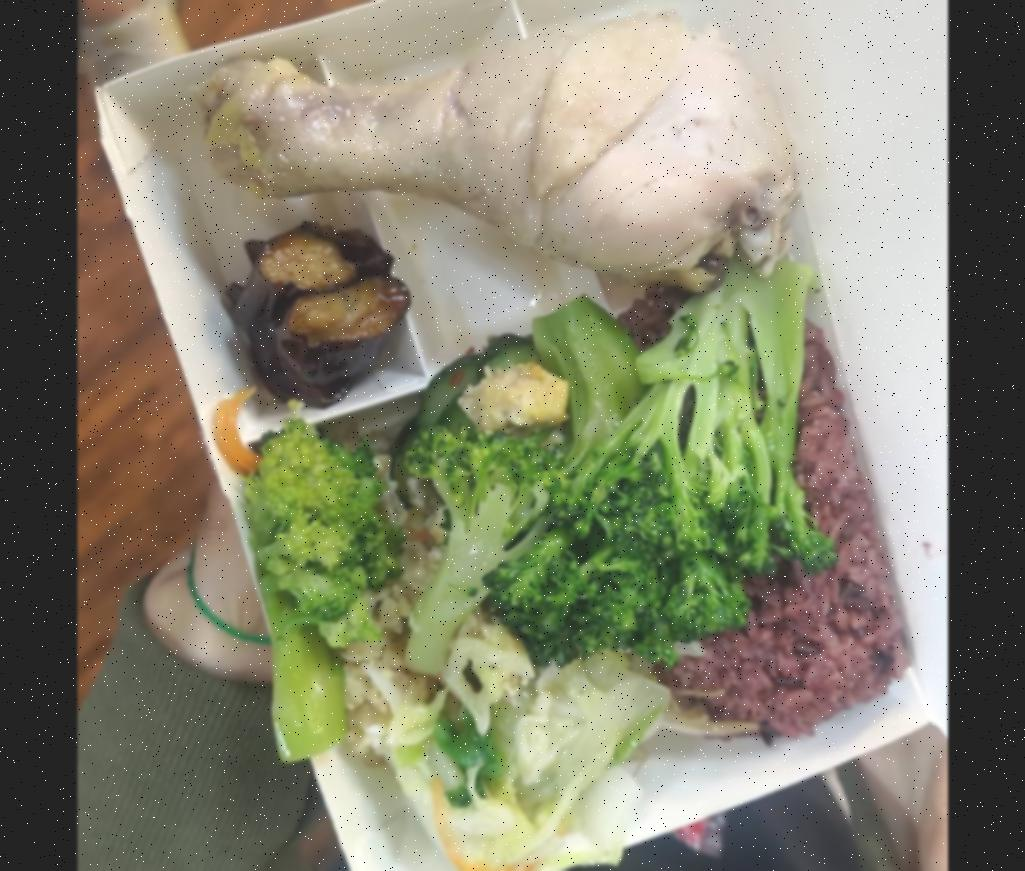big grilled chicken leg: (95, 0, 927, 871)
braised fish: (662, 314, 914, 746)
braised fish fillet: (253, 242, 830, 752), (371, 633, 679, 871), (220, 223, 422, 406)
braised pork: (198, 14, 810, 273)
